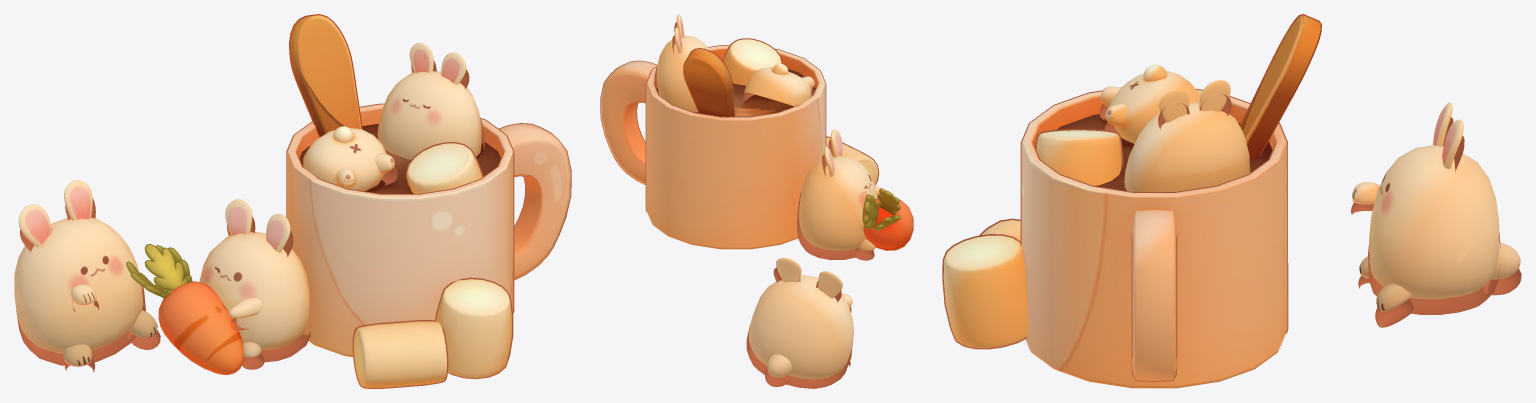
File: choco_bunny.glb
The picture shows the model from 3 angles, left to right: view 1: azimuth 30°, elevation 25°; view 2: azimuth 150°, elevation 25°; view 3: azimuth 270°, elevation 25°; orthographic projection. The views are drawn at different scales.
Visible parts, largest first — view 1: Bony, Cup, Malva, Carriot, Palette; view 2: Cup, Bony, Palette, Carriot, Malva; view 3: Cup, Bony, Malva, Palette.
Boxes of the visible parts, <box> form: Bony: <box>14,42,484,372</box>; Cup: <box>286,103,571,357</box>; Malva: <box>352,142,513,388</box>; Carriot: <box>126,244,244,374</box>; Palette: <box>289,14,362,137</box>; Cup: <box>600,45,826,249</box>; Bony: <box>654,14,880,388</box>; Palette: <box>683,48,735,117</box>; Carriot: <box>862,188,913,250</box>; Malva: <box>722,38,879,184</box>; Cup: <box>1020,88,1288,388</box>; Bony: <box>1099,64,1521,327</box>; Malva: <box>942,129,1123,349</box>; Palette: <box>1240,14,1321,158</box>.
Bounding box in the file's own units: 2.55 × 1.92 × 2.57.
3 materials, 3 textured.
